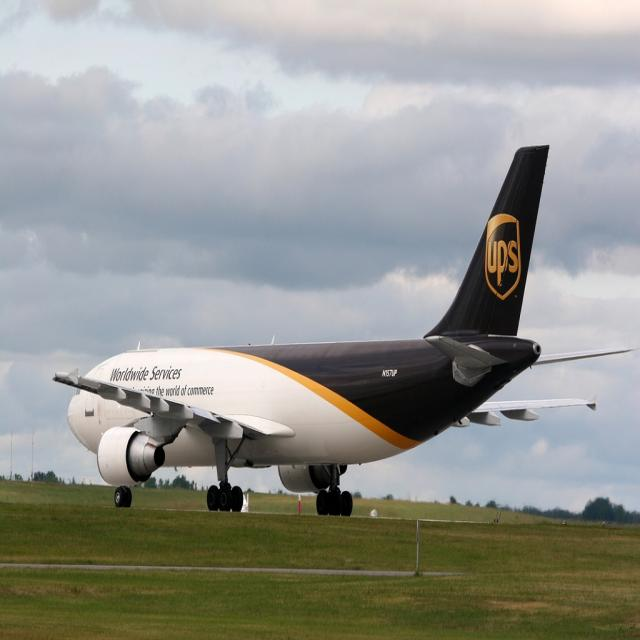ups: (487, 214, 522, 302)
